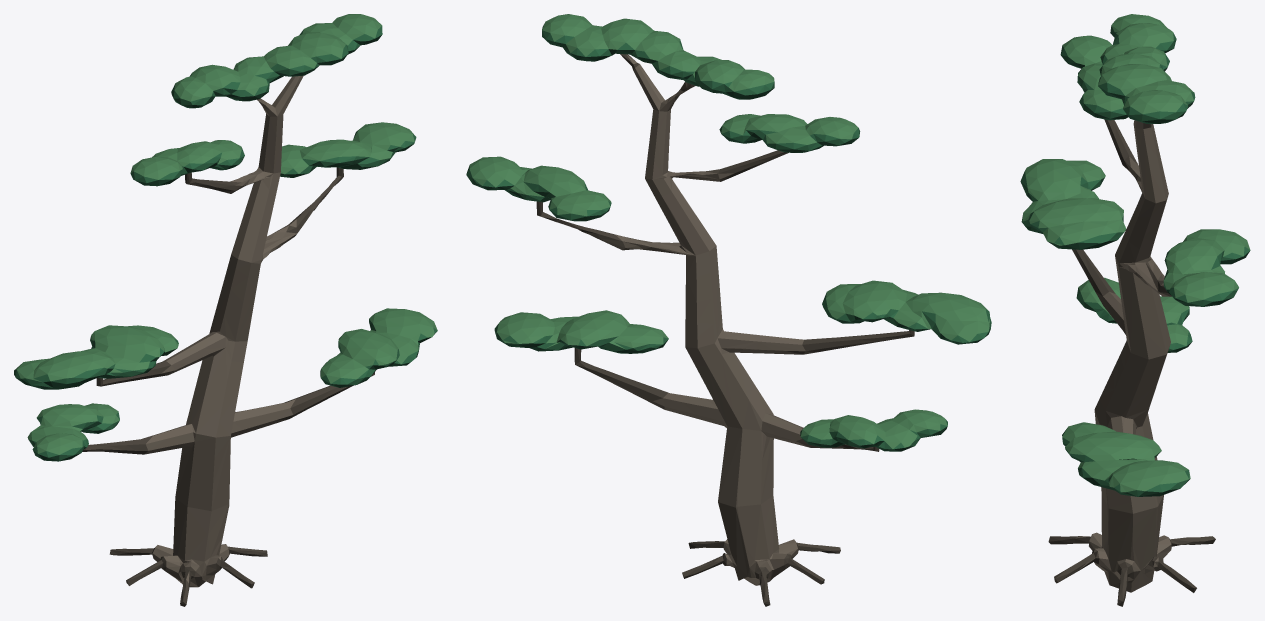
Rendered from ancient-pine-4137-lod0.glb.
3 views of the same model, side by side, from view 1: azimuth 30°, elevation 25°; view 2: azimuth 150°, elevation 25°; view 3: azimuth 270°, elevation 25° (orthographic). The views are drawn at different scales.
Visible parts, largest first — view 1: n12.004, n8.004, n11.004, n9.004, n10.004; view 2: n12.004, n8.004, n11.004, n9.004, n10.004; view 3: n12.004, n8.004, n11.004, n9.004, n10.004.
Boxes of the visible parts, <box> form: n12.004: <box>14,14,437,454</box>; n8.004: <box>144,75,303,587</box>; n11.004: <box>14,26,437,460</box>; n9.004: <box>82,167,374,606</box>; n10.004: <box>16,35,436,461</box>; n12.004: <box>469,14,990,448</box>; n8.004: <box>602,54,818,585</box>; n11.004: <box>466,23,991,449</box>; n9.004: <box>536,54,914,606</box>; n10.004: <box>473,37,990,451</box>; n12.004: <box>1022,14,1250,492</box>; n8.004: <box>1075,120,1171,592</box>; n11.004: <box>1020,25,1250,496</box>; n9.004: <box>1048,119,1215,606</box>; n10.004: <box>1022,32,1249,496</box>.
Bounding box in the file's own units: 4.92 × 5.42 × 1.92.
